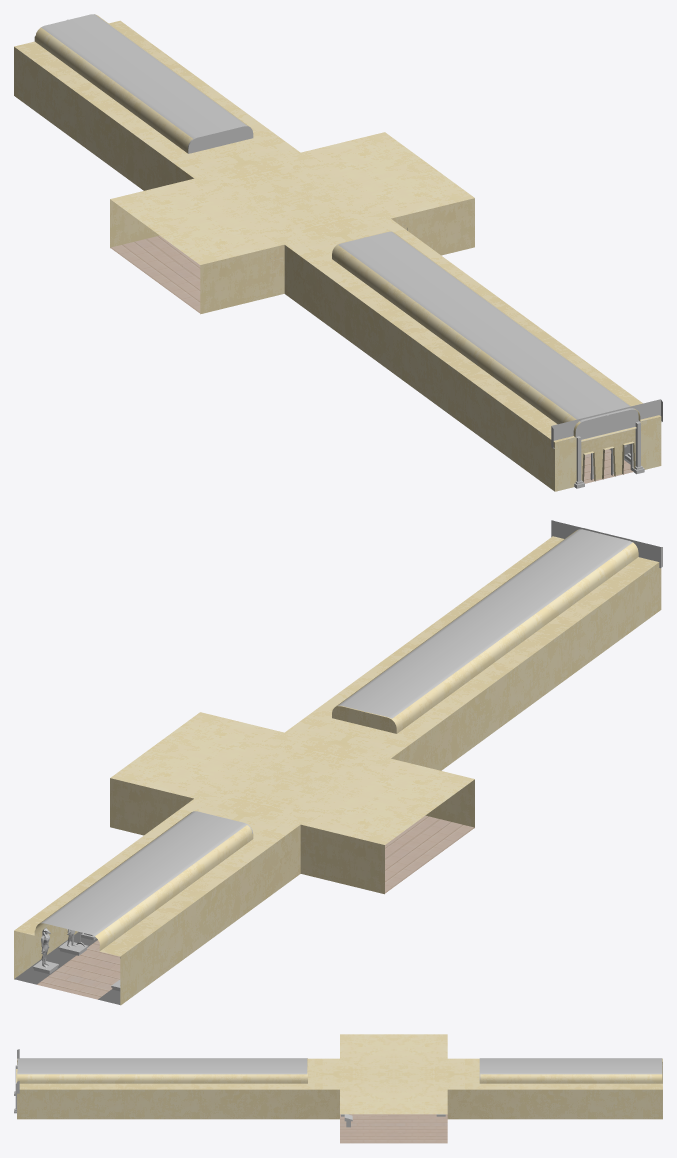
The model's file is Chunk02.fbx.
3 renders of one model, top to bottom at view 1: azimuth 30°, elevation 25°; view 2: azimuth 150°, elevation 25°; view 3: azimuth 270°, elevation 25°, orthographic. The views are drawn at different scales.
Visible parts, largest first — view 1: CHunk02_mesh; view 2: CHunk02_mesh; view 3: CHunk02_mesh.
Boxes of the visible parts, box(x1,y1,x2,y2) form: CHunk02_mesh: box(14, 14, 662, 491); CHunk02_mesh: box(14, 520, 662, 1005); CHunk02_mesh: box(14, 1034, 662, 1143).
Size of the model in its own units: 17598 by 3960 by 60283.
